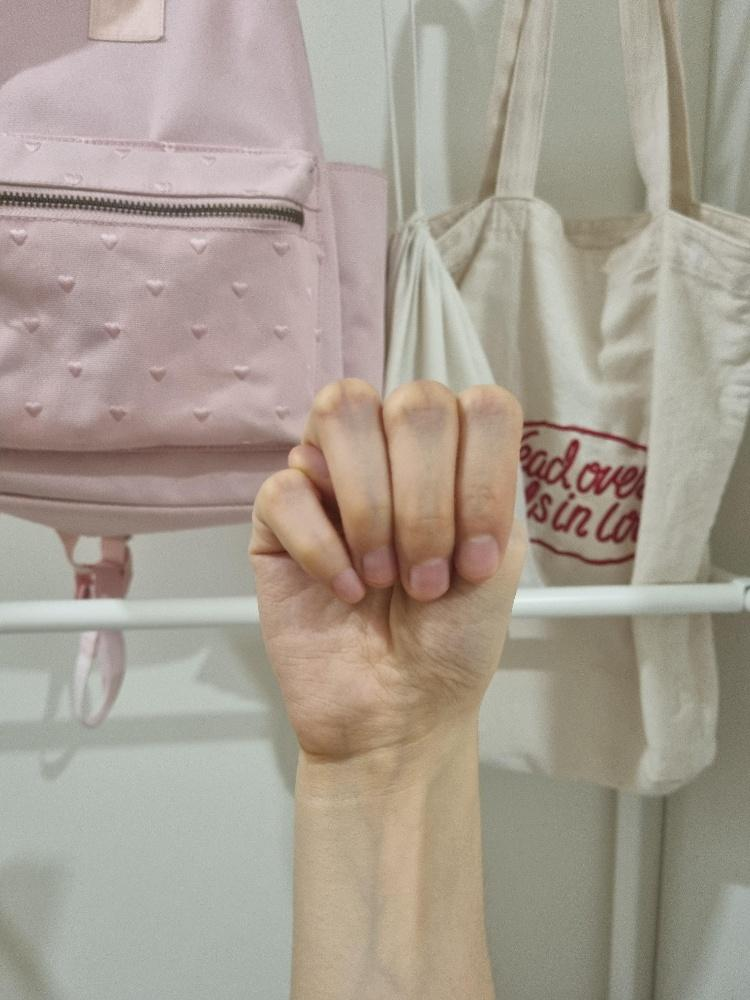m: (249, 373, 530, 759)
